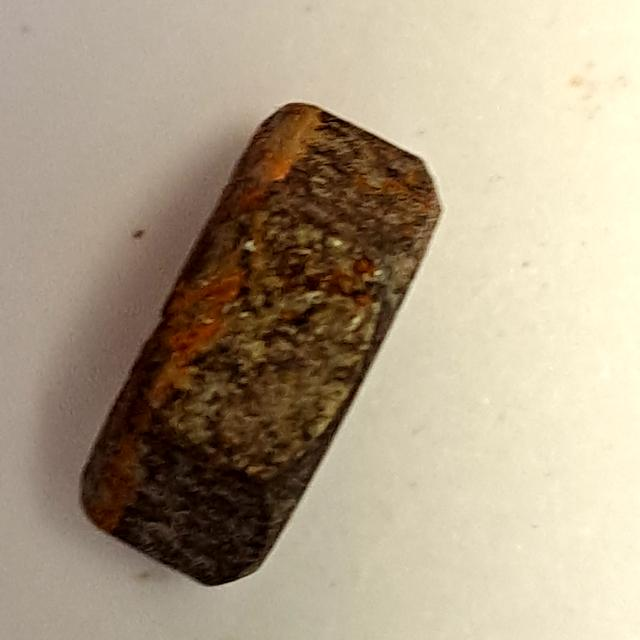Side_Rust: (64, 89, 463, 601)
